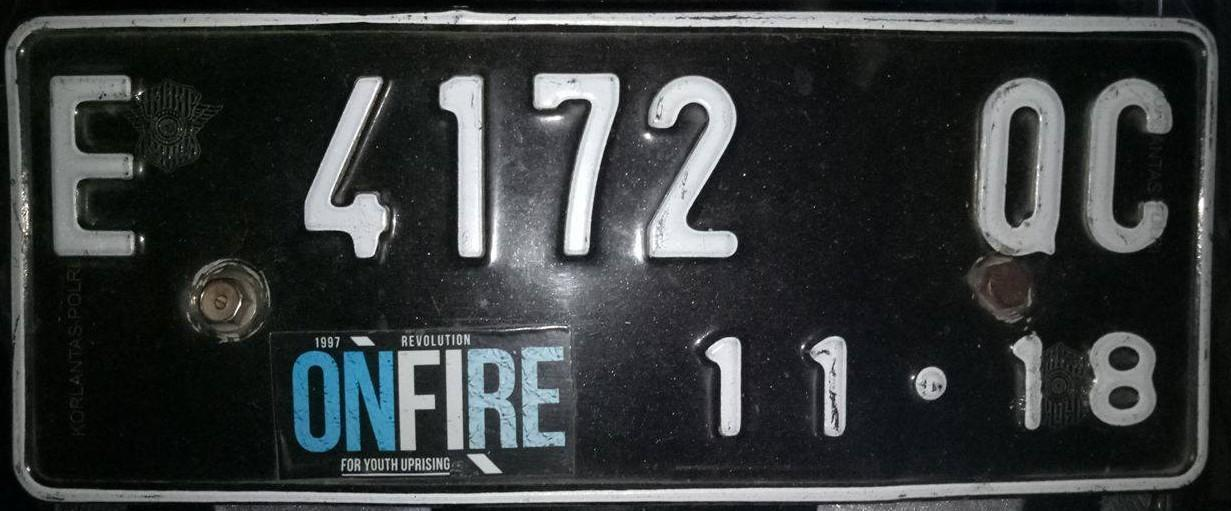1: (405, 66, 527, 274)
2: (622, 66, 769, 274)
4: (275, 73, 414, 267)
7: (514, 67, 634, 275)
C: (1064, 73, 1194, 266)
E: (34, 62, 162, 268)
Q: (956, 68, 1070, 258)
